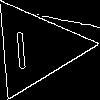I: (11, 22, 30, 69)
